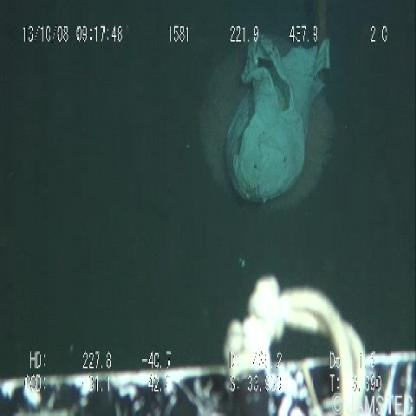Rov: (2, 269, 416, 416)
Rác: (216, 20, 334, 228)
